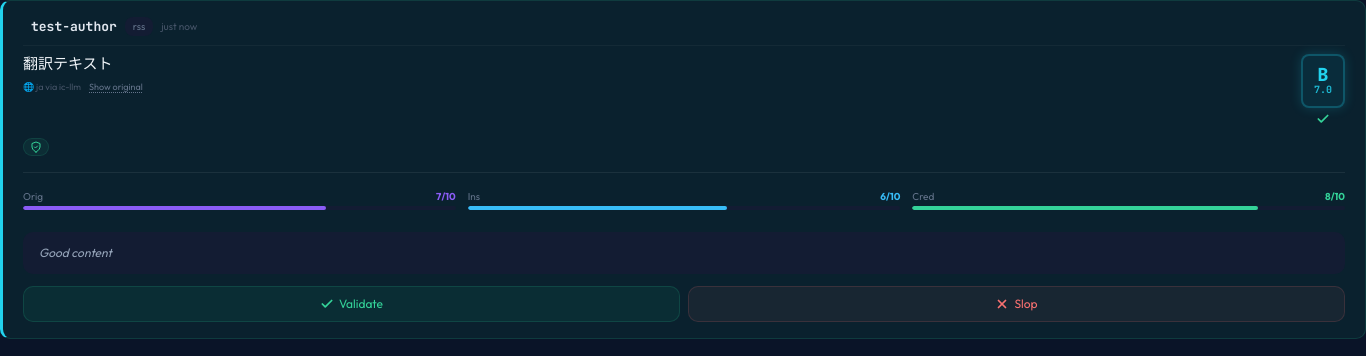
Test: ContentCard translation display › shows Show original button that toggles original text
Expected: the text "Original English content here" is not shown
Click the button "Show original": (116, 87) [89,80,143,93]
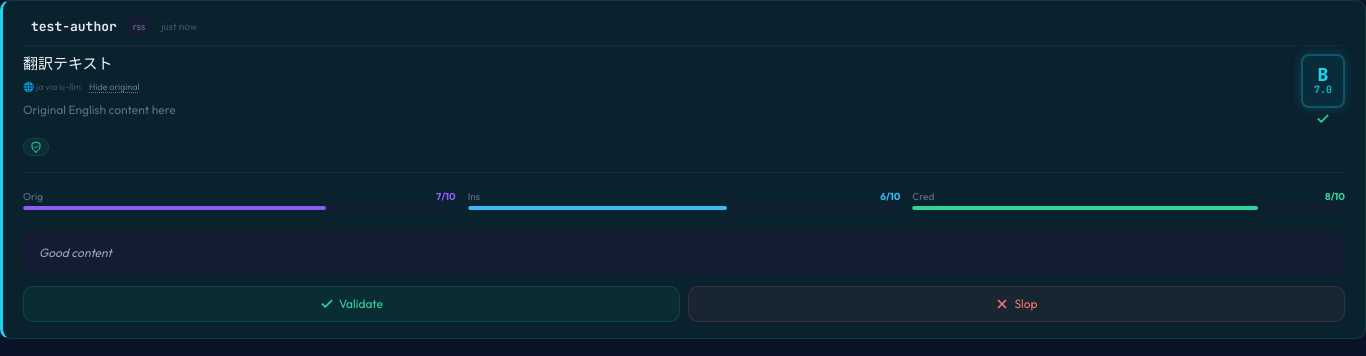
Expected: the text "Original English content here" is shown, [23,102,176,117]
Expected: the button "Hide original" is shown
Click the button "Hide original": (114, 87) [89,80,140,93]
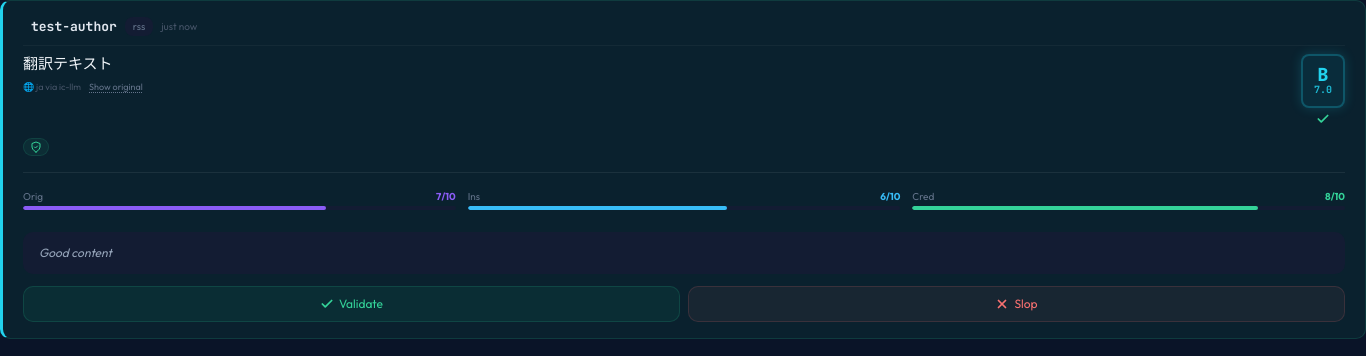
Expected: the text "Original English content here" is gone
Expected: the button "Show original" is shown, [89,80,143,93]
